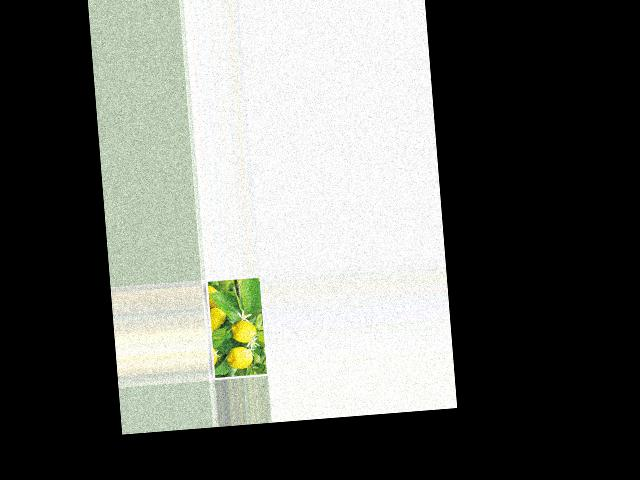lemon: (229, 320, 258, 343)
